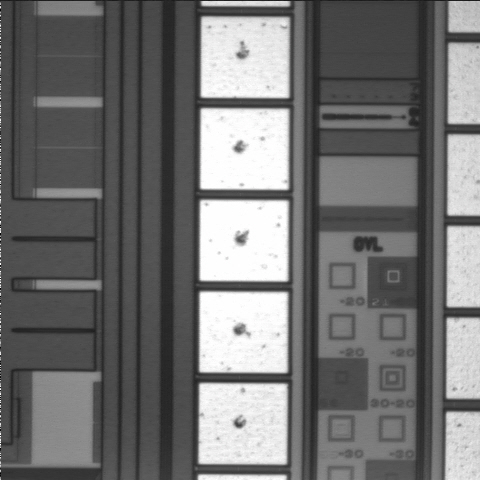pad: (200, 108, 289, 190), (200, 200, 289, 281), (199, 292, 288, 373), (201, 17, 289, 98), (199, 383, 287, 464)
